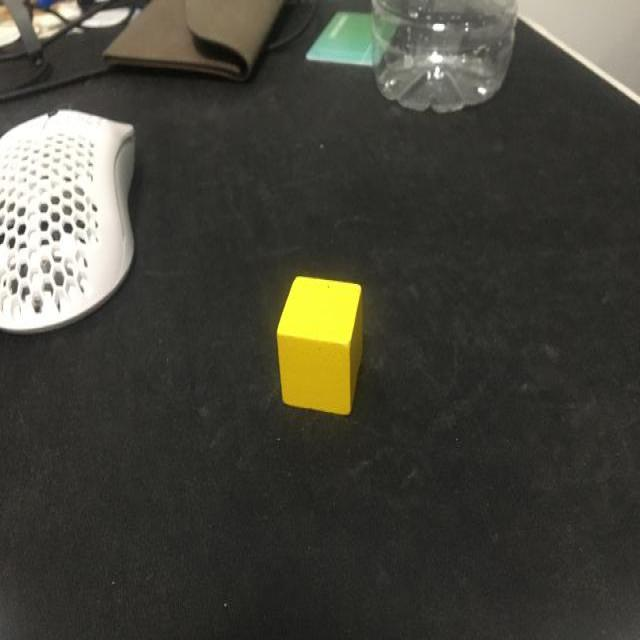yellow: (276, 274, 363, 416)
